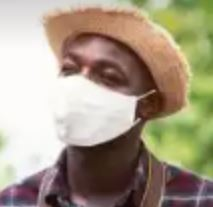with_facemask: (46, 76, 135, 145)
